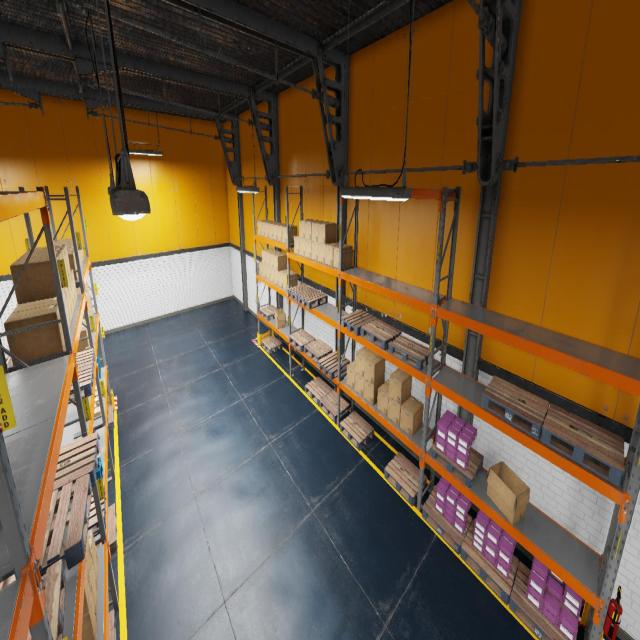box: (4, 304, 64, 366), (486, 461, 530, 524), (10, 255, 64, 304), (16, 251, 66, 289), (22, 248, 69, 282), (27, 245, 71, 278), (399, 396, 424, 437), (389, 368, 412, 405), (82, 582, 96, 639), (12, 297, 57, 313), (388, 395, 410, 427), (364, 353, 385, 385), (56, 239, 84, 262), (54, 242, 82, 264), (87, 529, 98, 584), (355, 347, 374, 378), (57, 238, 84, 259), (364, 378, 384, 406), (90, 553, 98, 613), (333, 244, 352, 269), (377, 380, 389, 416), (83, 559, 90, 616), (318, 222, 336, 244), (311, 221, 329, 242), (66, 244, 82, 267), (77, 324, 90, 352), (325, 242, 339, 266), (305, 220, 321, 240), (76, 288, 89, 312), (76, 284, 89, 308), (346, 360, 356, 390), (299, 218, 314, 238), (63, 290, 71, 327), (68, 251, 78, 280), (282, 225, 297, 244), (283, 271, 297, 290), (278, 269, 292, 288), (273, 253, 287, 271), (277, 224, 291, 242), (65, 287, 72, 321), (86, 533, 91, 579), (274, 309, 286, 328), (355, 372, 364, 397), (265, 250, 278, 267), (269, 222, 282, 239), (261, 220, 274, 237), (68, 279, 74, 314), (77, 293, 85, 319), (262, 248, 274, 265), (272, 223, 284, 240), (265, 221, 277, 238), (70, 274, 76, 307), (270, 252, 282, 268), (71, 270, 77, 301), (257, 220, 269, 235), (318, 243, 325, 264), (312, 241, 318, 261), (306, 240, 312, 258), (299, 238, 305, 256), (294, 235, 299, 254), (88, 310, 92, 332), (86, 281, 90, 303), (94, 406, 101, 418), (95, 396, 103, 406), (95, 390, 105, 398), (270, 267, 274, 283), (90, 296, 93, 316), (274, 270, 278, 285), (266, 266, 270, 280), (262, 264, 266, 278), (259, 261, 262, 276), (67, 248, 74, 252), (90, 301, 92, 315), (82, 319, 86, 325), (89, 305, 91, 315), (95, 386, 97, 391), (95, 402, 96, 408)
pallets: (0, 474, 92, 590), (540, 403, 624, 486), (509, 562, 578, 640), (460, 519, 519, 605), (481, 376, 549, 439), (422, 485, 472, 554), (26, 560, 66, 640), (53, 432, 99, 499), (431, 441, 484, 488), (384, 452, 427, 506), (389, 335, 429, 370), (339, 410, 374, 450), (361, 319, 401, 350), (96, 504, 117, 554), (68, 364, 94, 404), (88, 483, 106, 537), (341, 309, 377, 336), (319, 390, 349, 422), (318, 351, 350, 379), (305, 377, 332, 405), (304, 338, 332, 364), (289, 329, 316, 352), (298, 290, 328, 310), (286, 284, 315, 302), (76, 348, 95, 374), (261, 336, 282, 354), (259, 304, 278, 320), (108, 611, 115, 639), (107, 404, 114, 430)
